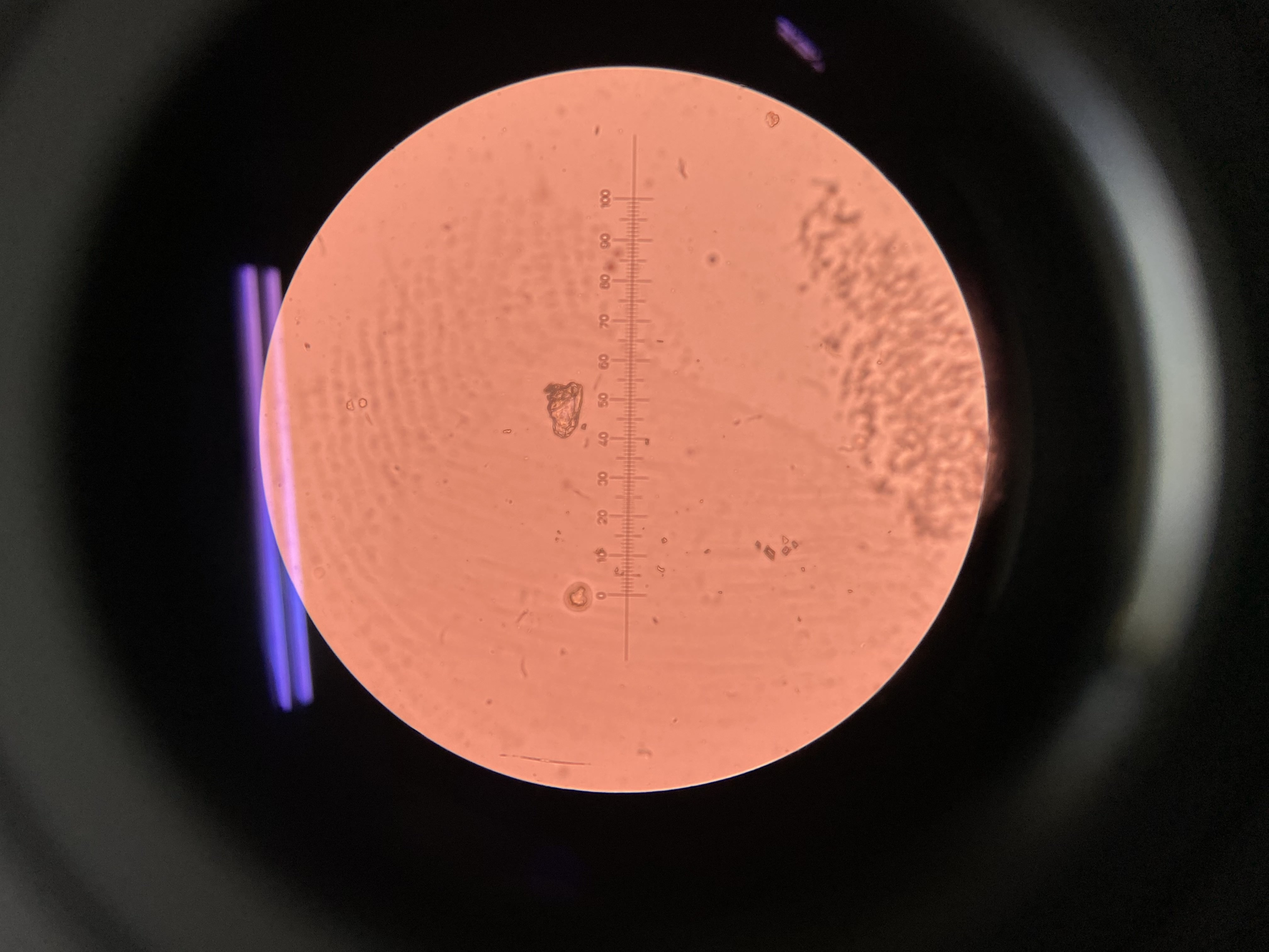not_microplastic: (802, 177, 1003, 540), (542, 380, 589, 439), (556, 581, 596, 616), (756, 536, 809, 559), (704, 251, 723, 268), (767, 106, 781, 128)
